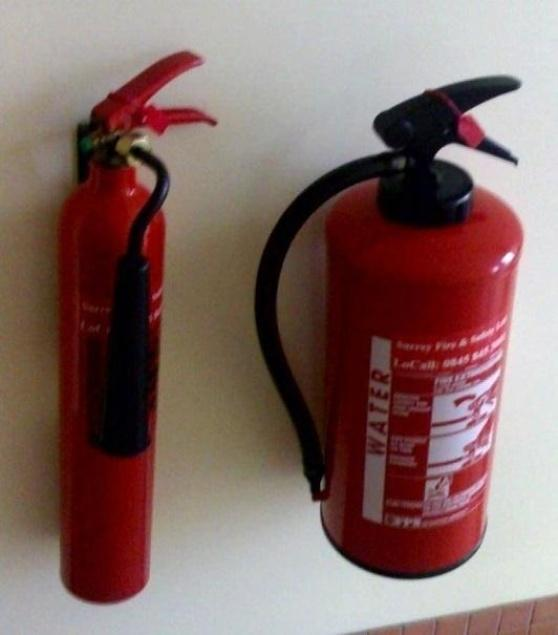APAR: (315, 74, 524, 581), (56, 48, 217, 605)
